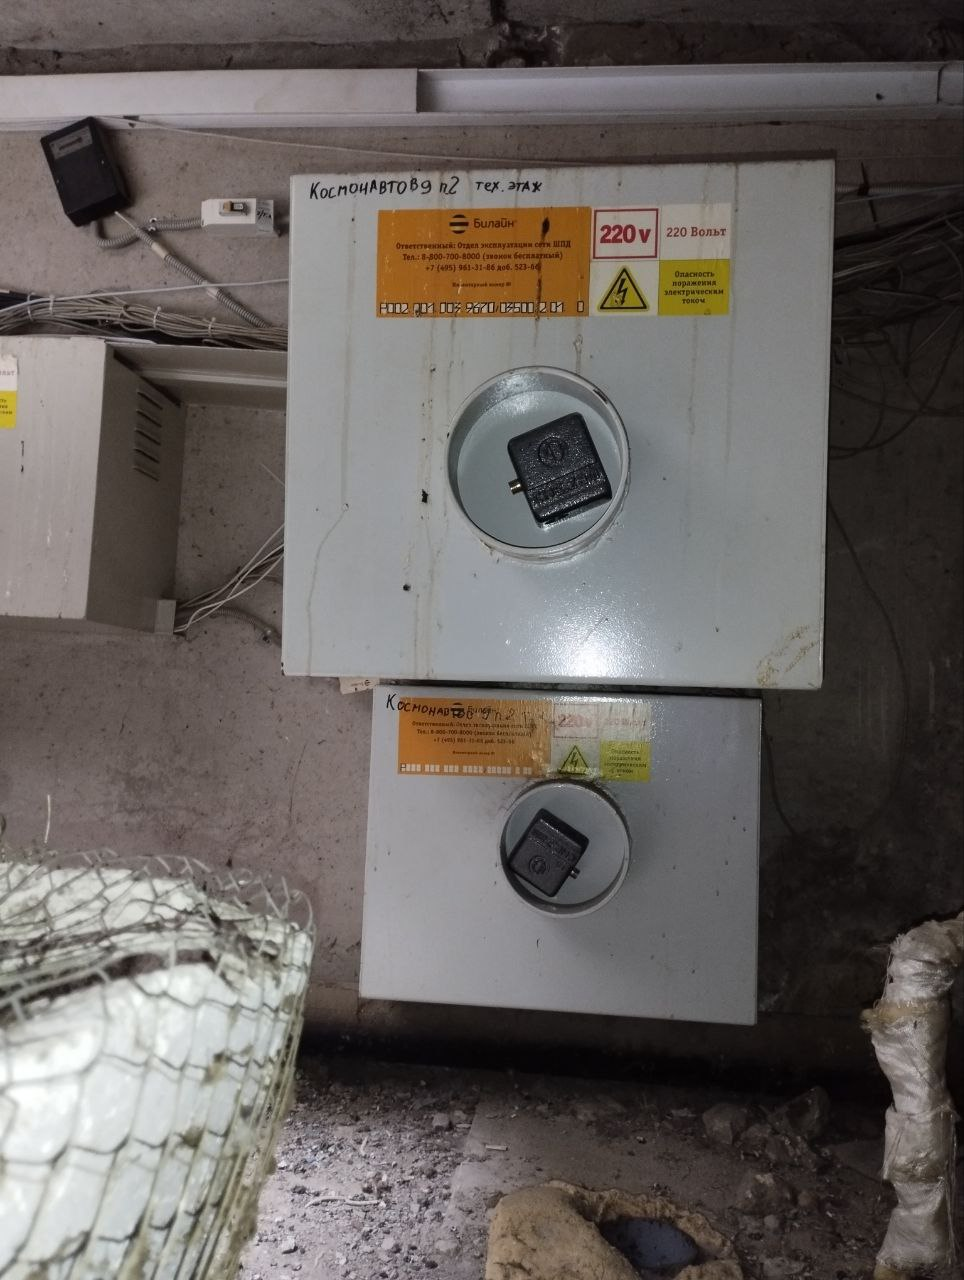shta-3: (351, 679, 773, 1028)
shta-9: (275, 150, 838, 695)
